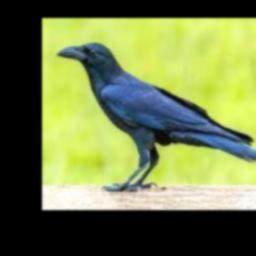Crow: (57, 42, 256, 191)
